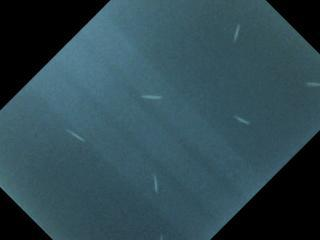scratch: (227, 22, 246, 47), (63, 126, 87, 143), (148, 168, 163, 194), (138, 90, 165, 104), (231, 113, 252, 128), (301, 78, 320, 91), (155, 228, 168, 240)
